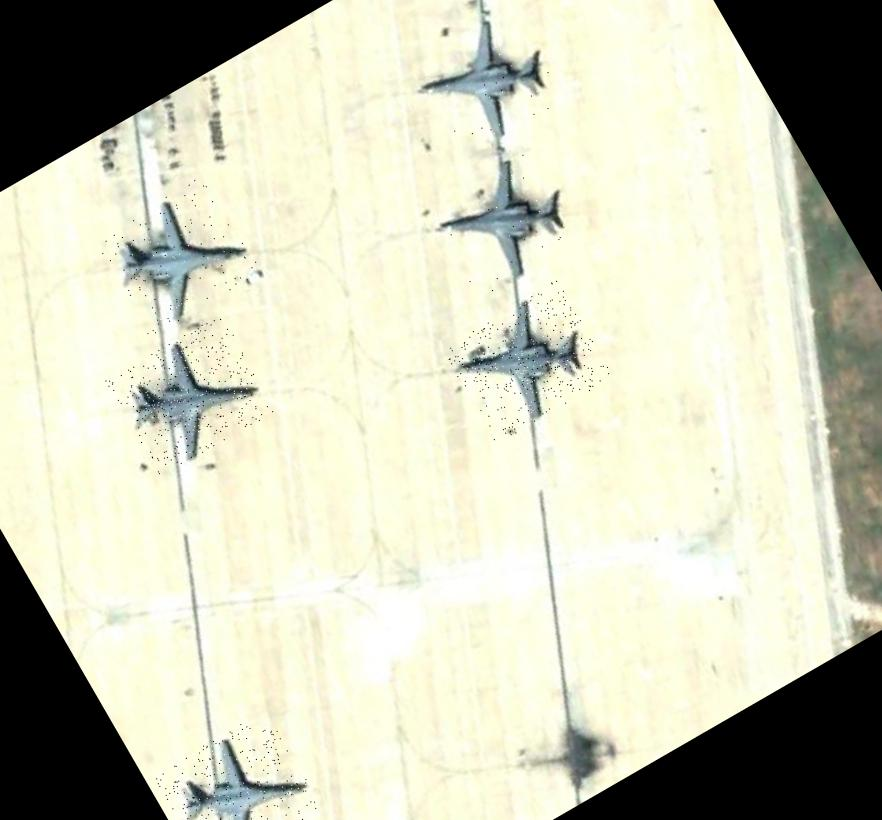A10: (439, 278, 613, 445), (92, 172, 262, 338), (105, 313, 277, 477), (400, 5, 568, 164), (420, 144, 588, 303), (152, 708, 324, 820)
